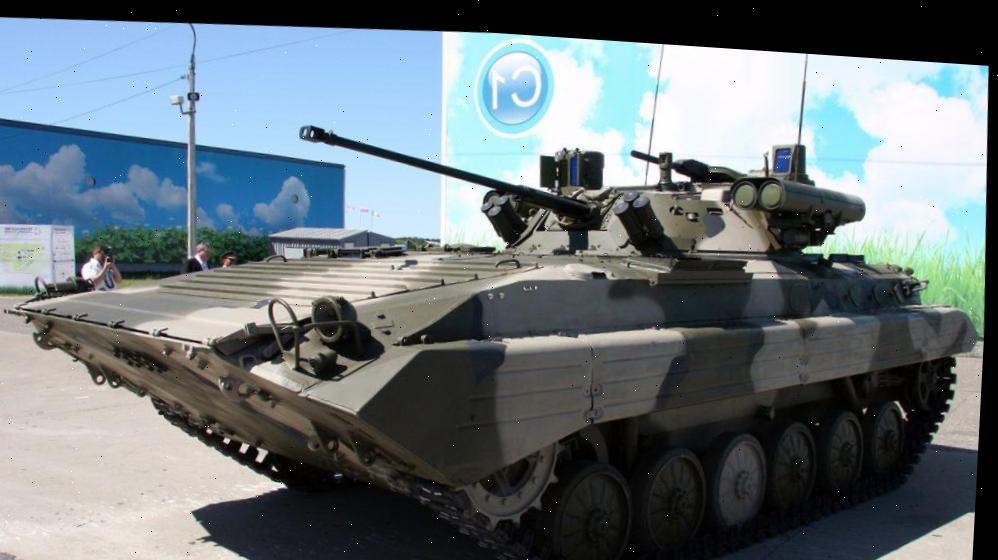tank: (0, 113, 992, 560)
